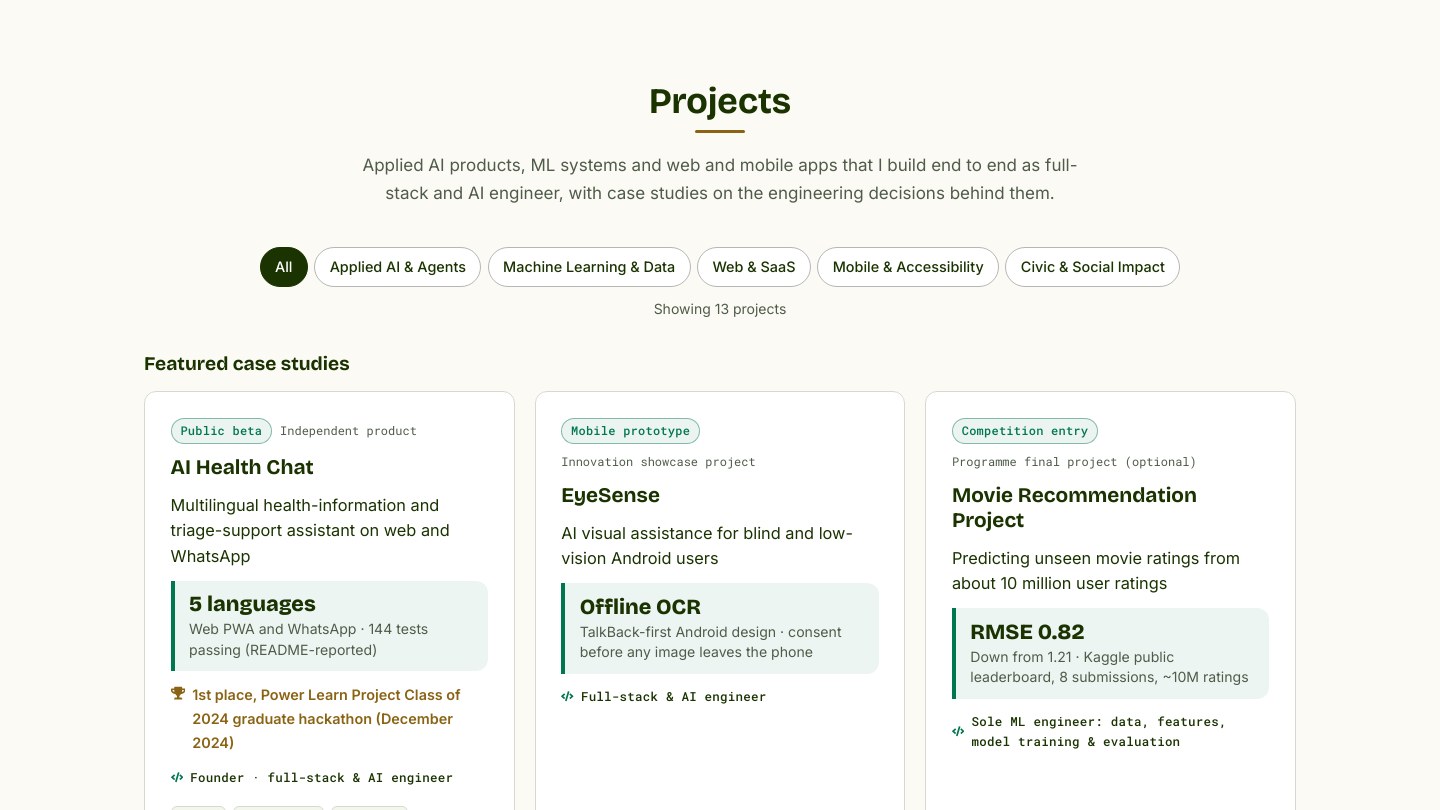
Projects filter › filters featured and gallery projects by category
Expected: the text "Showing 13 projects" is shown, [654, 297, 786, 320]
Click the button "Machine Learning & Data" at (589, 267), box [488, 247, 691, 287]
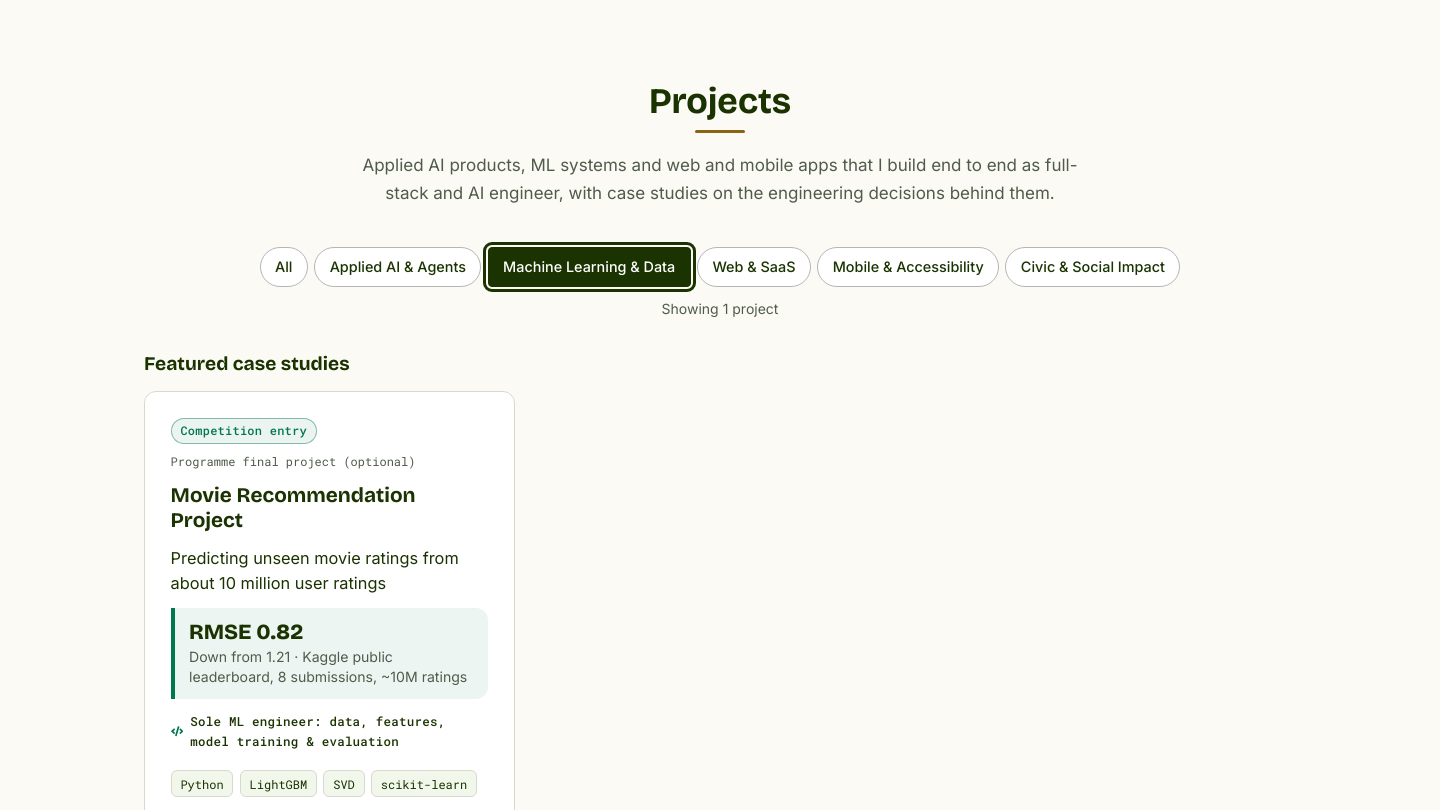
Expected: the link "Movie Recommendation Project" is shown, [171, 483, 416, 533]
Result: the text "Showing 1 project" is shown at [662, 297, 778, 320]
Result: the link "AI Health Chat" is gone
